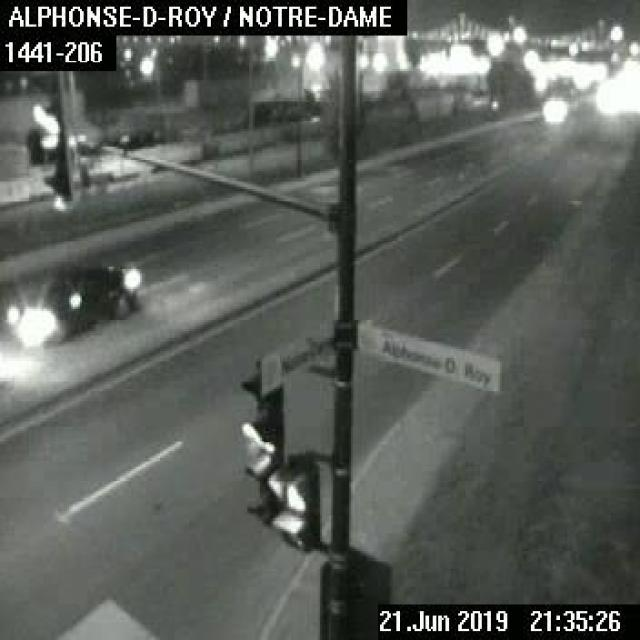vehicle: (13, 262, 140, 342)
